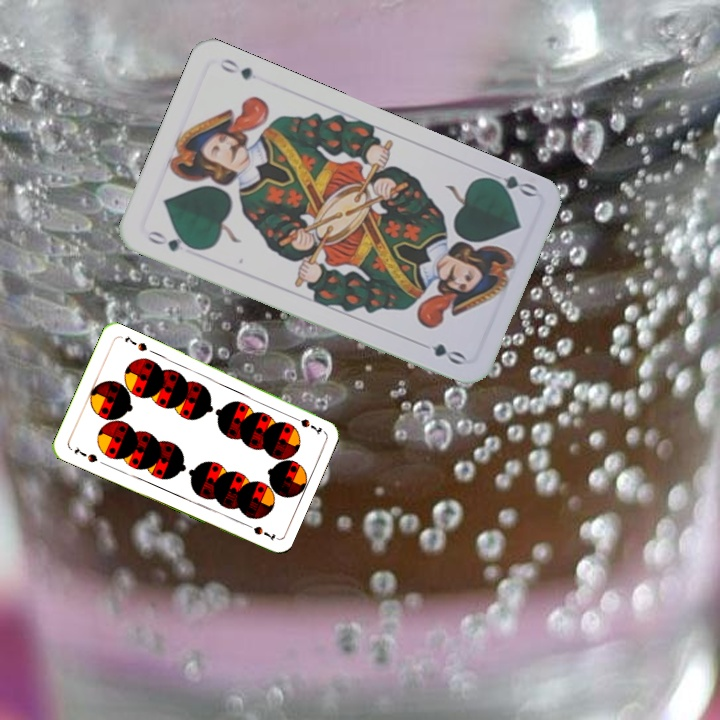GO: (480, 171, 539, 201), (142, 226, 199, 254)
S7: (287, 411, 324, 437), (70, 442, 100, 465)
